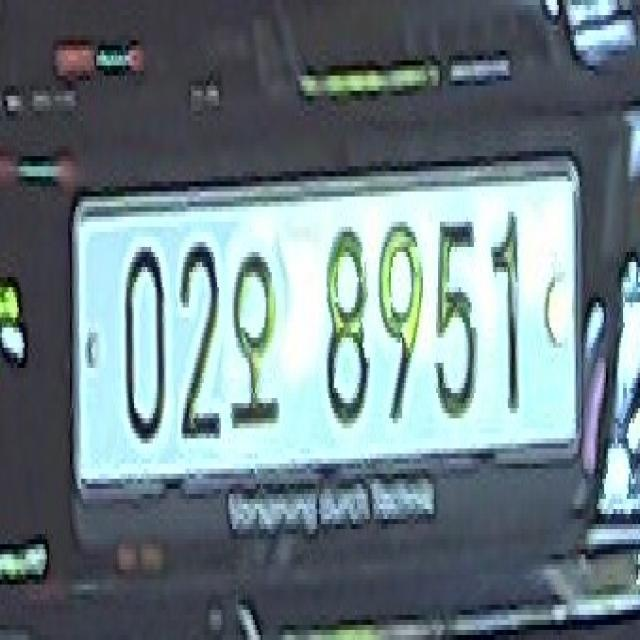0: (123, 210, 164, 470)
1: (488, 185, 530, 418)
2: (174, 236, 224, 452)
5: (428, 203, 482, 438)
8: (318, 210, 374, 448)
9: (377, 204, 423, 456)
license_plate: (64, 137, 596, 508)
o: (228, 244, 282, 446)
